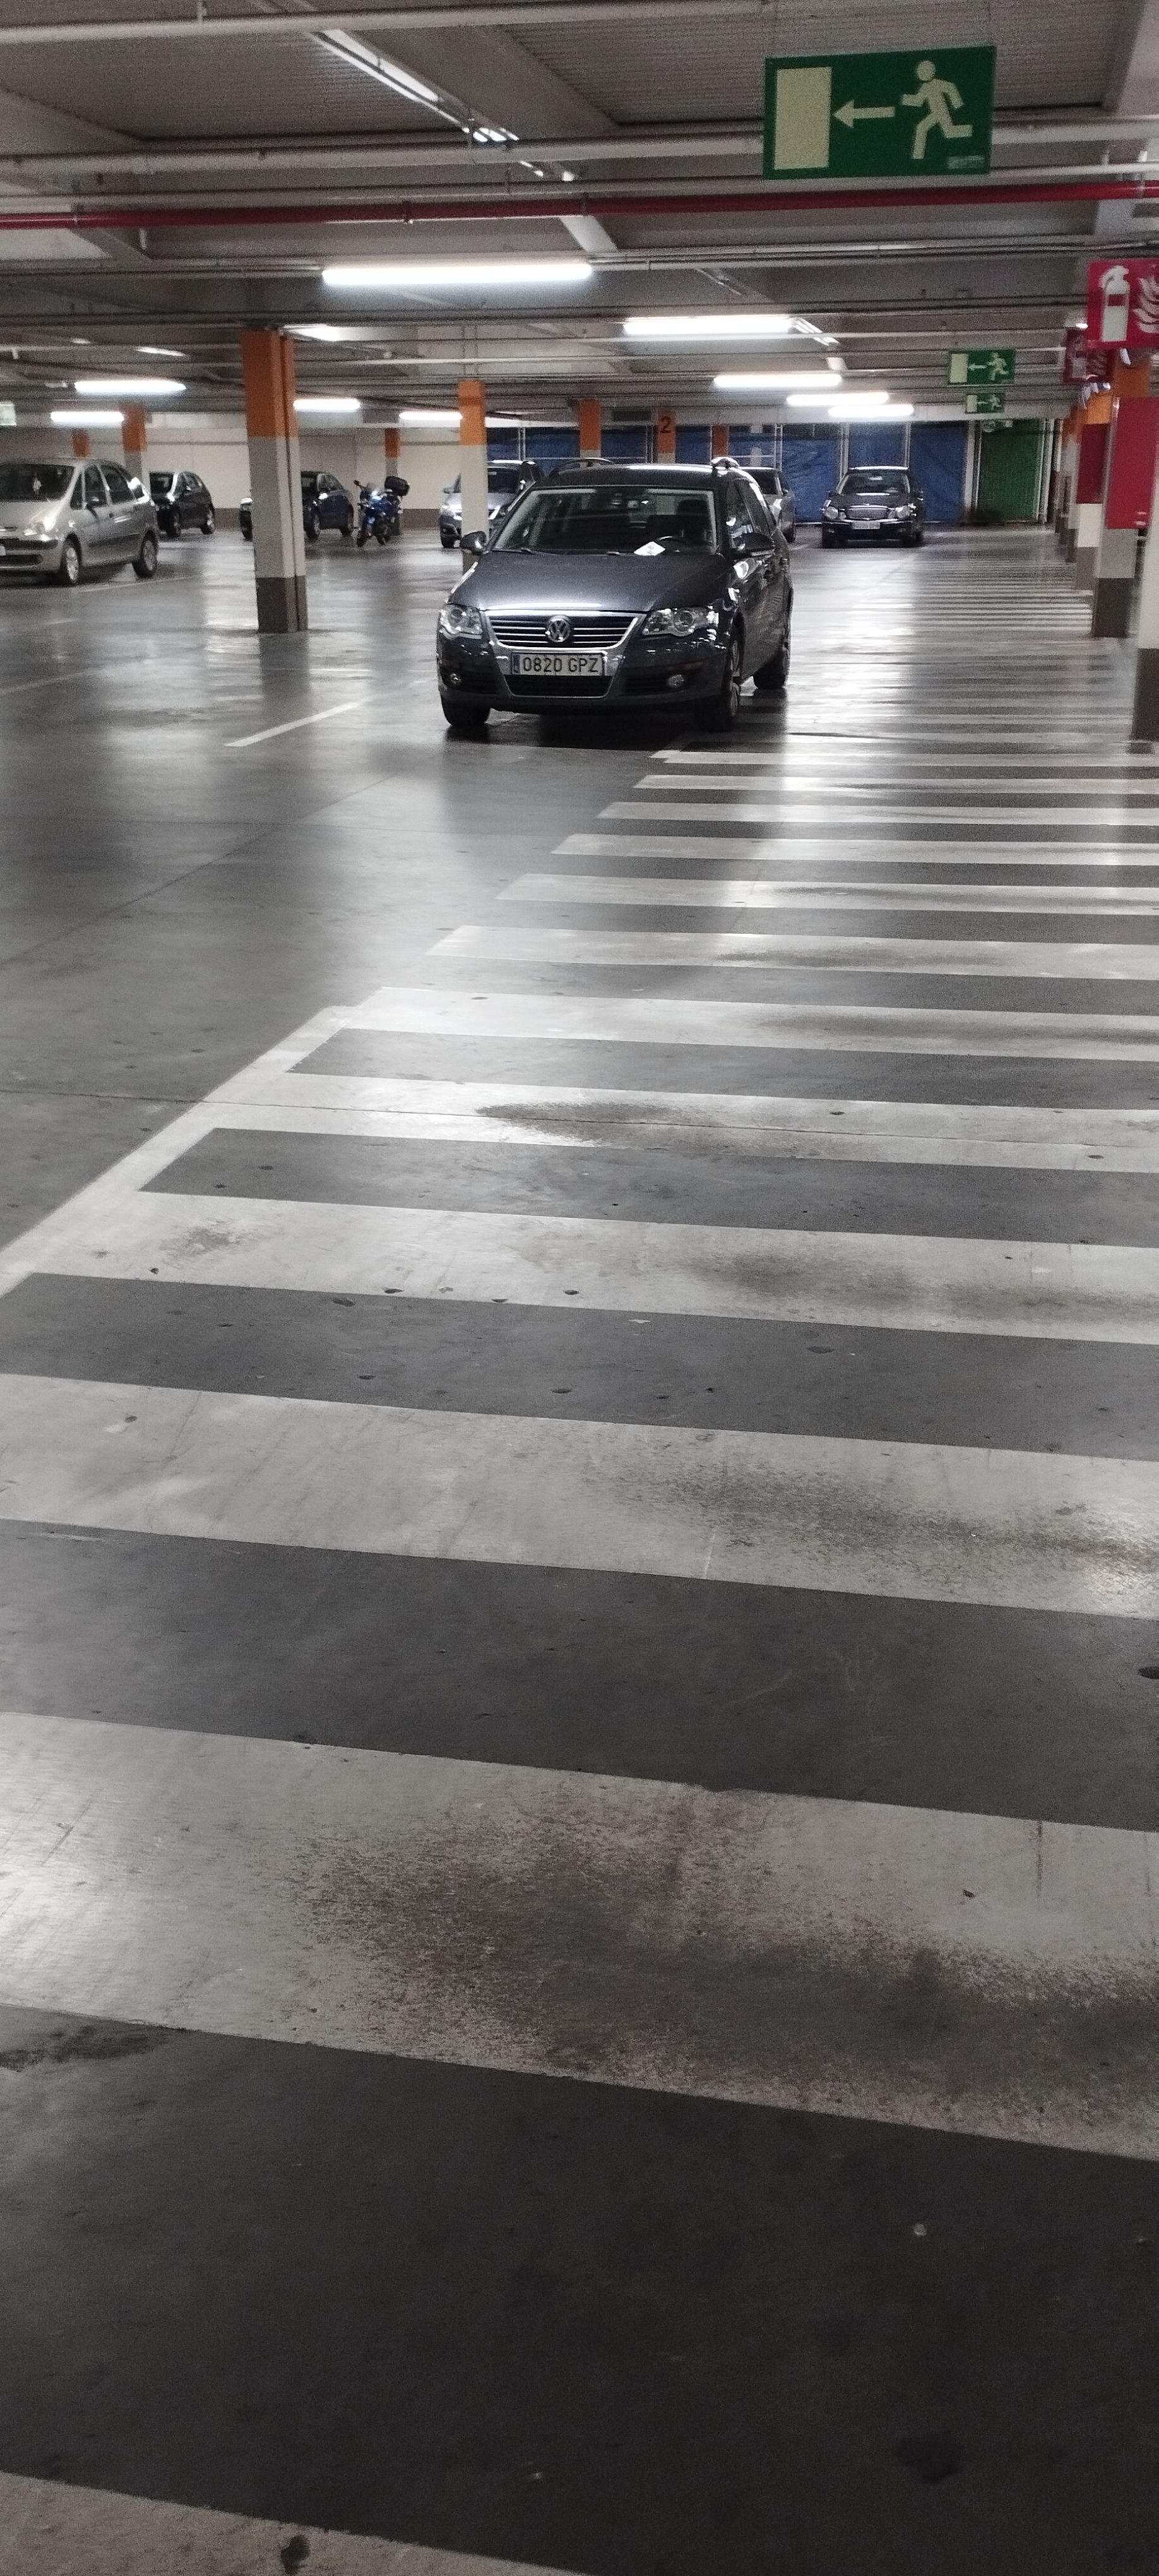Car: (443, 456, 788, 730)
Plate: (508, 647, 605, 680)
